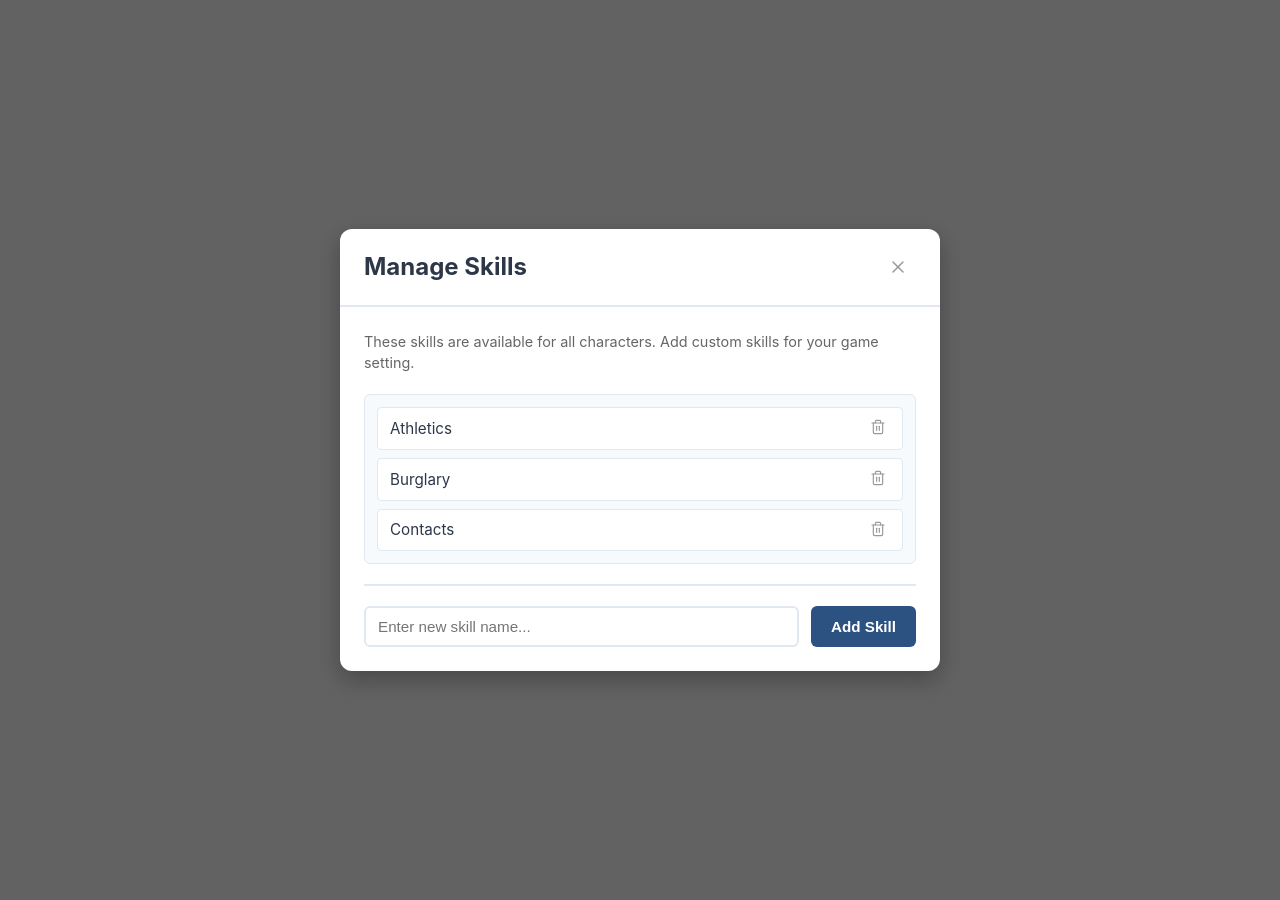
Scenario: SkillsAdminModal › should display confirmation message before deleting
Click the button titled "Delete skill" at (878, 428), box left=866, top=418, right=890, bottom=439
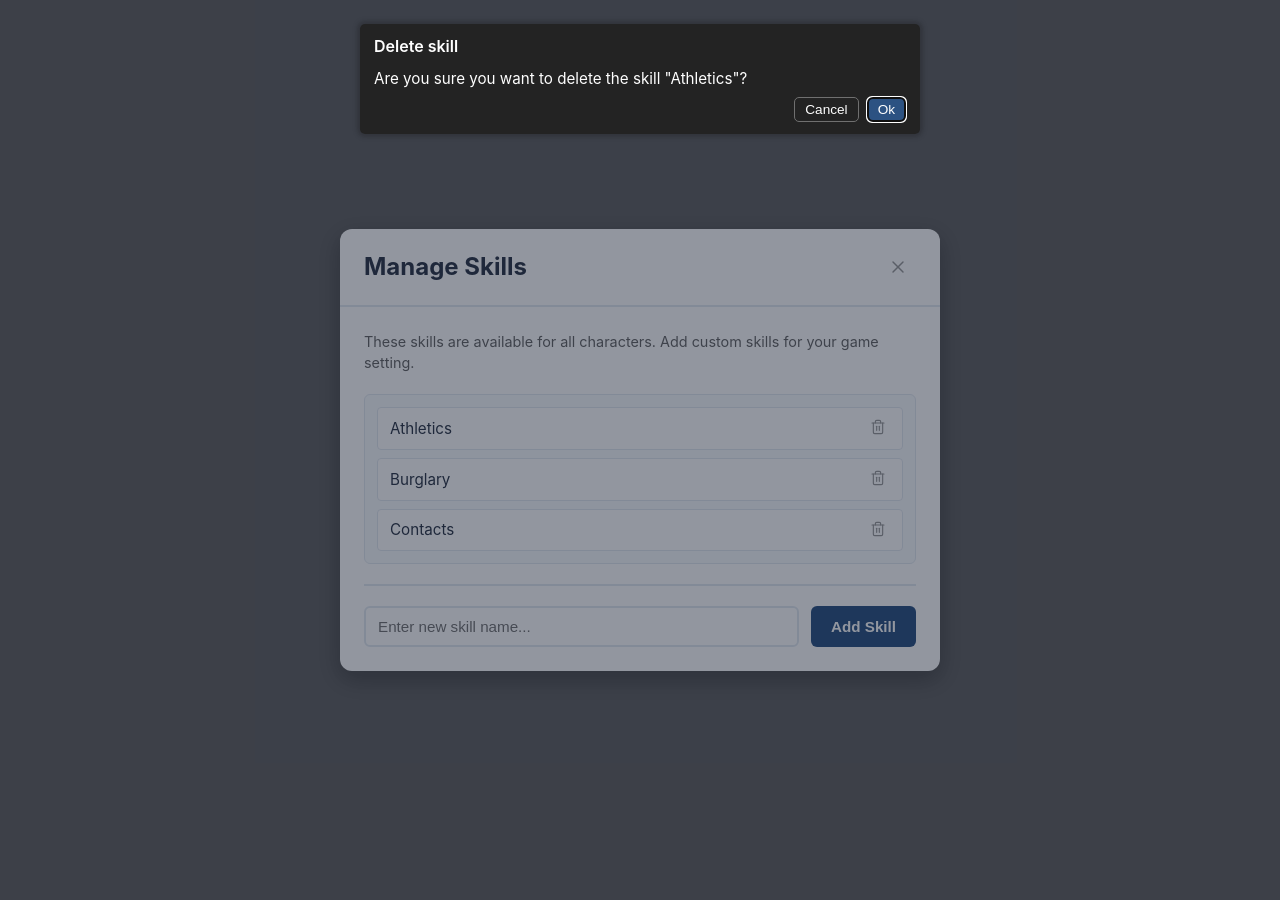
Check: the text "Are you sure you want to delete the skill \"Athletics\"?" is shown, box left=374, top=69, right=747, bottom=88
